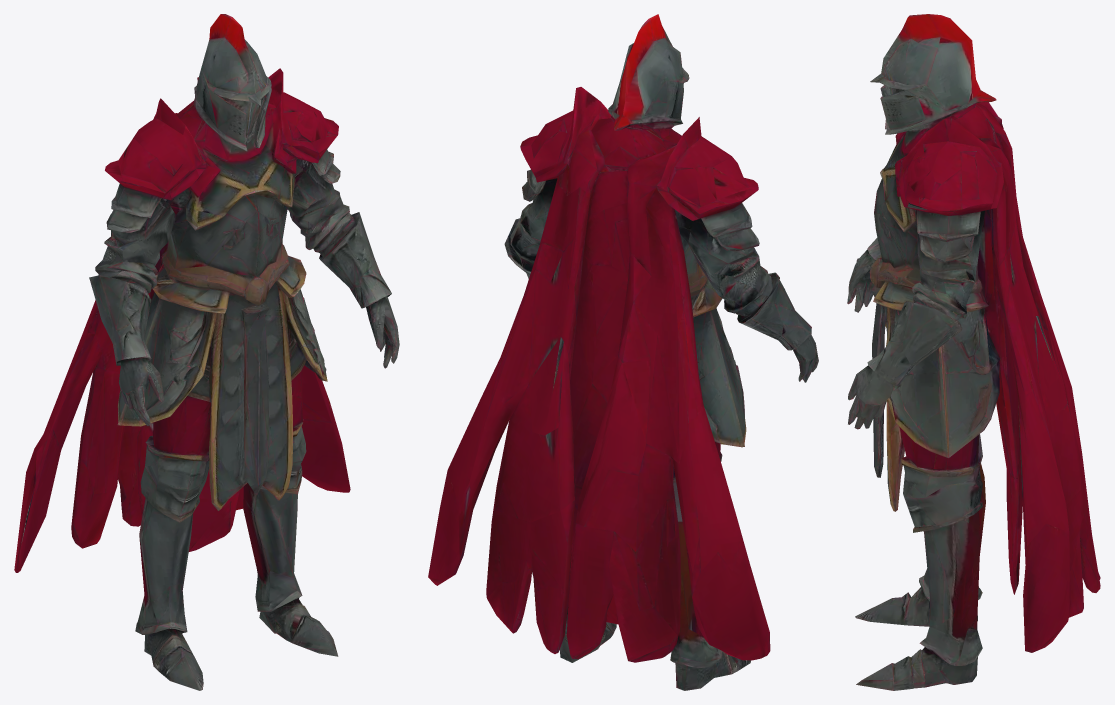
File: ae_raid_captain_lod0.glb
3 renders of one model, left to right at view 1: azimuth 30°, elevation 25°; view 2: azimuth 150°, elevation 25°; view 3: azimuth 270°, elevation 25°, orthographic.
Size of the model in its own units: 1.08 by 1.95 by 0.7037.
Materials: 1 (1 with a texture image).
